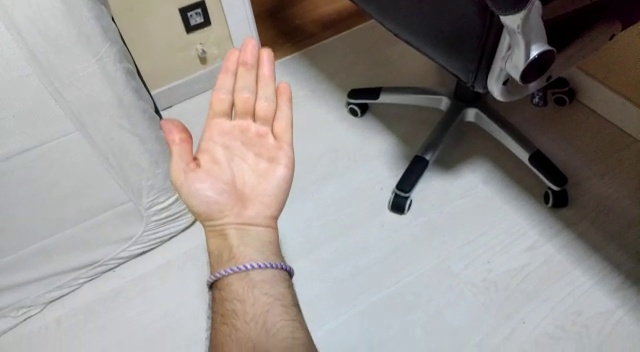Palm: (158, 35, 299, 244)
